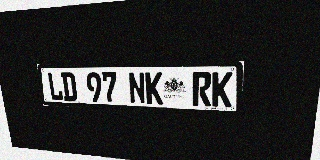7: (101, 72, 119, 103)
9: (86, 72, 103, 102)
D: (60, 72, 78, 101)
K: (212, 72, 233, 107), (145, 72, 163, 105)
L: (47, 72, 64, 101)
N: (128, 72, 146, 104)
R: (192, 72, 212, 106)
